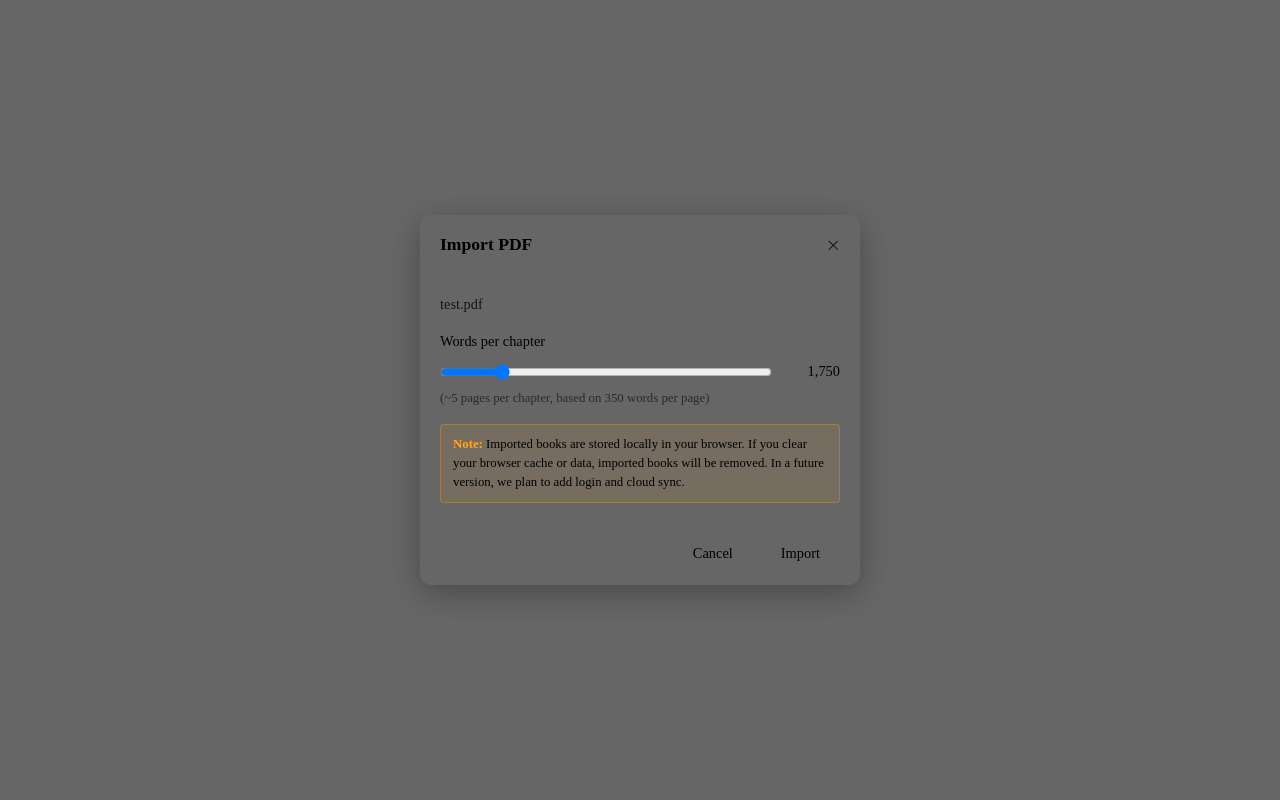
Scenario: ImportConfigModal › updates estimated pages when slider changes
The width and height of the screenshot is (1280, 800).
Set the slider to "3500" at (557, 372), box [440, 364, 772, 380]
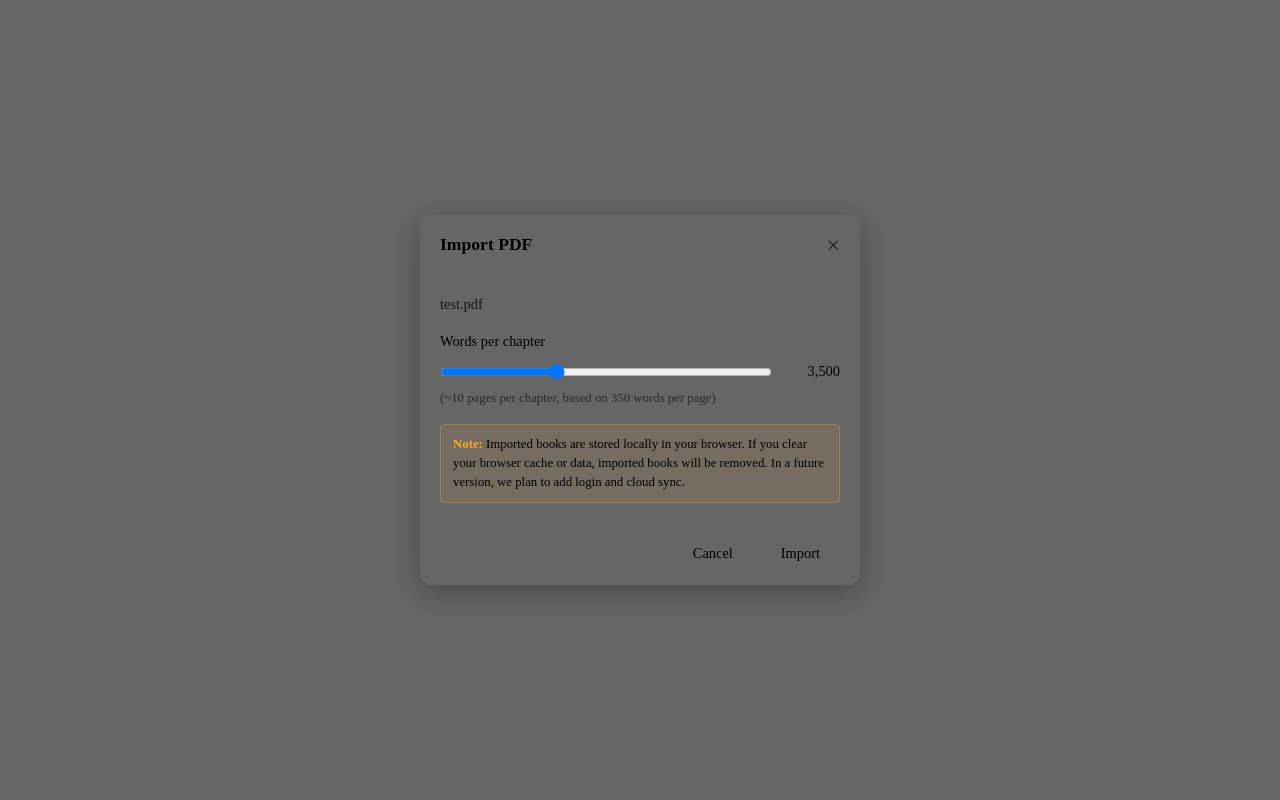
Expected: the text "(~10 pages per chapter, based on 350 words per page)" is shown, [440, 391, 716, 405]
Expected: the text "3,500" is shown, [808, 363, 840, 379]
